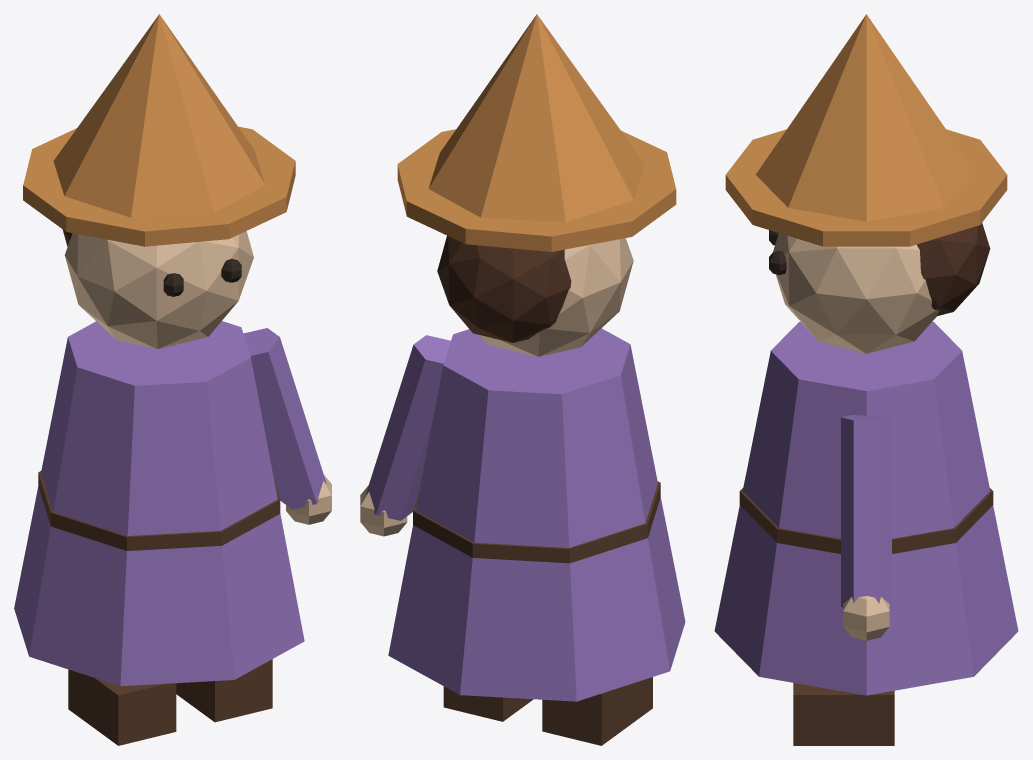
File: villager_4_p.glb
The picture shows the model from 3 angles, left to right: view 1: azimuth 30°, elevation 25°; view 2: azimuth 150°, elevation 25°; view 3: azimuth 270°, elevation 25°; orthographic projection. The views are drawn at different scales.
Visible parts, largest first — view 1: villager_4_p; view 2: villager_4_p; view 3: villager_4_p.
Boxes of the visible parts, box(x1,y1,x2,y2) form: villager_4_p: box(14, 14, 331, 745); villager_4_p: box(360, 14, 685, 745); villager_4_p: box(714, 14, 1018, 745).
Size of the model in its own units: 0.5334 by 1.16 by 0.459.
